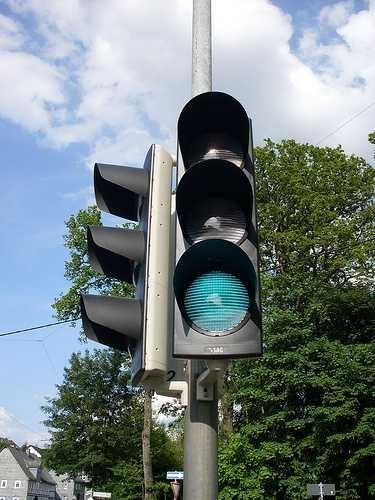green: (179, 257, 262, 340)
